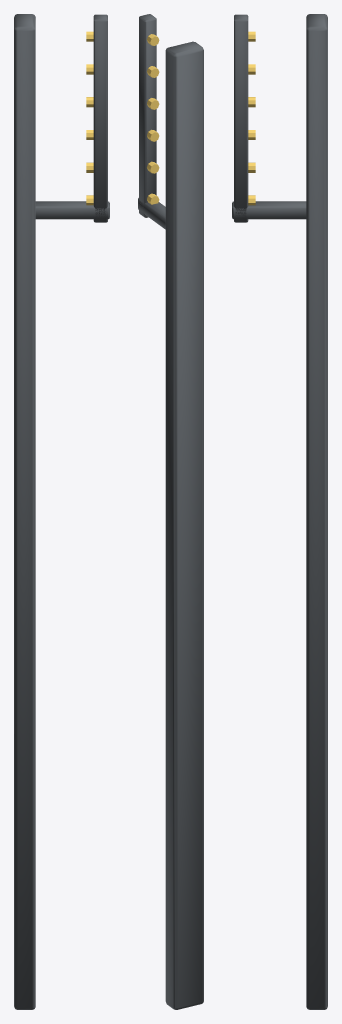
File: fence_electric_post.glb
3 views of the same model, side by side, from view 1: azimuth 90°, elevation 25°; view 2: azimuth 210°, elevation 25°; view 3: azimuth 270°, elevation 25° (orthographic). The views are drawn at different scales.
Parts seen in each view (by area): view 1: Body; view 2: Body; view 3: Body.
Boxes of the visible parts, box(x1,y1,x2,y2) form: Body: box(14, 14, 109, 1009); Body: box(138, 14, 203, 1009); Body: box(232, 14, 327, 1009).
Bounding box in the file's own units: 0.1 × 3.01 × 0.265.
